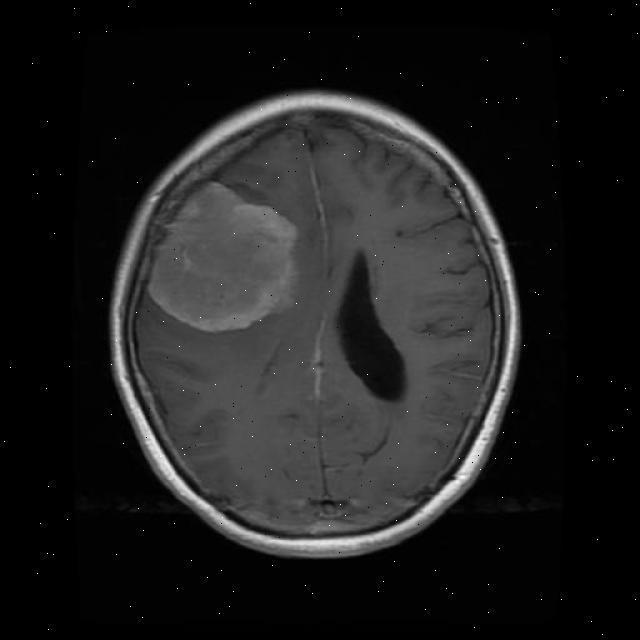Meningioma: (149, 182, 296, 332)
